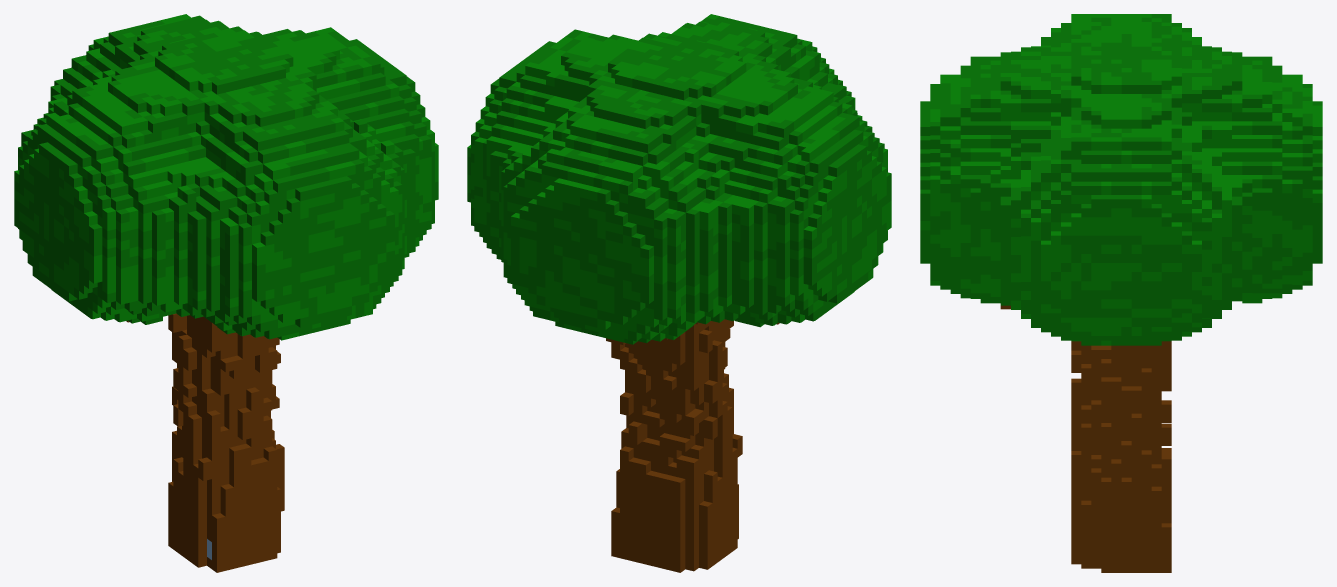
Rendered from game_tree.glb.
3 views of the same model, side by side, from view 1: azimuth 30°, elevation 25°; view 2: azimuth 150°, elevation 25°; view 3: azimuth 270°, elevation 25° (orthographic).
Parts seen in each view (by area): view 1: Node1; view 2: Node1; view 3: Node1.
Part boxes in pixels (bbox=[...]): Node1: bbox=[14, 14, 438, 572]; Node1: bbox=[467, 14, 891, 572]; Node1: bbox=[920, 14, 1322, 572].
Size of the model in its own units: 4 by 5.4 by 4.
Materials: 1 (1 with a texture image).
